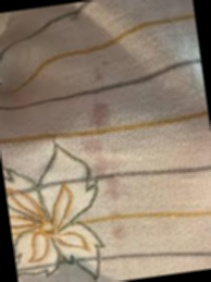wine: (78, 133, 119, 173), (96, 178, 130, 215), (83, 99, 113, 130), (83, 60, 111, 88), (102, 217, 128, 245)
